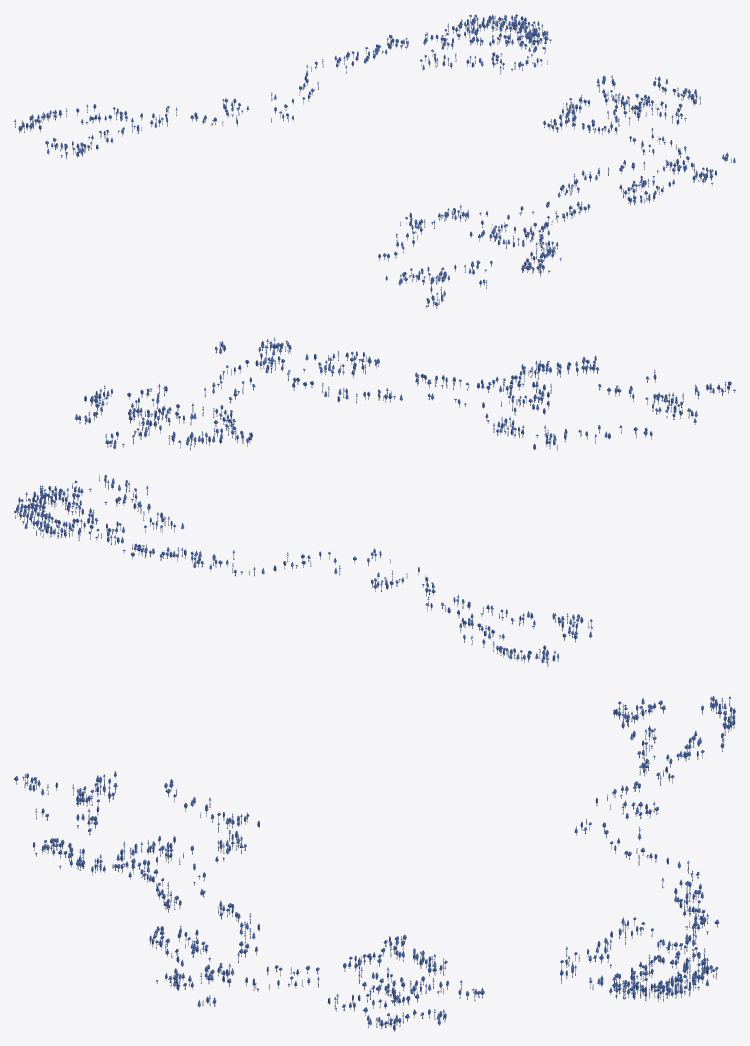
The model's file is pohon ground.fbx.
3 views of the same model, one above another, from view 1: azimuth 30°, elevation 25°; view 2: azimuth 150°, elevation 25°; view 3: azimuth 270°, elevation 25° (orthographic). The views are drawn at different scales.
Size of the model in its own units: 88676 by 1426 by 82440.
